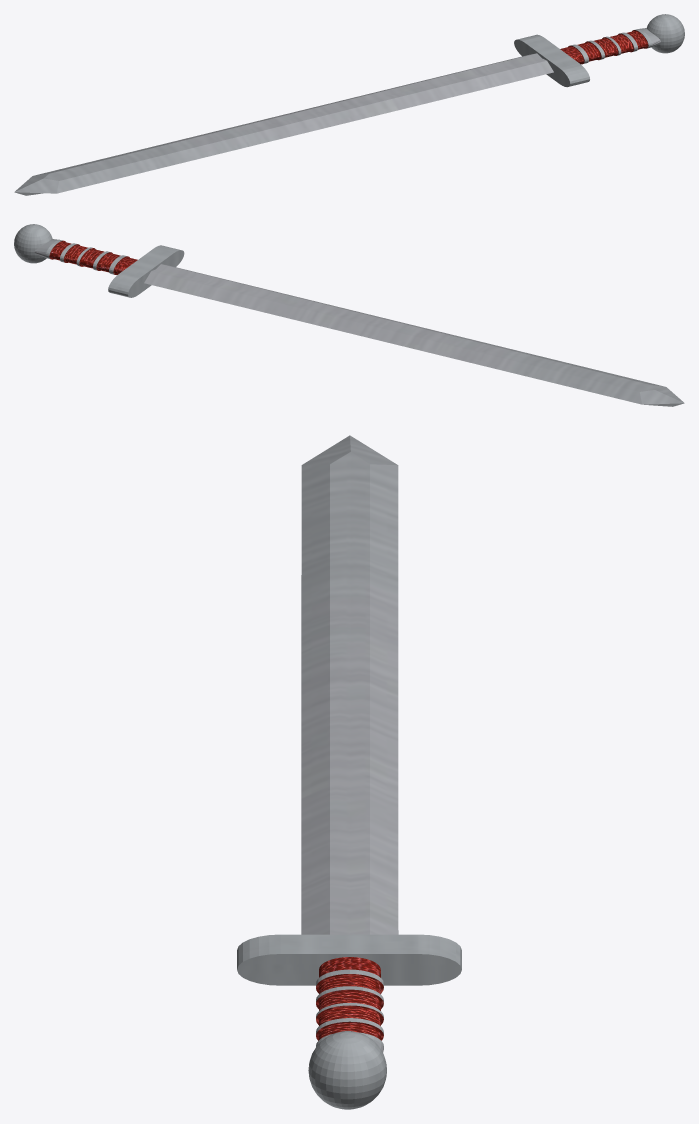
File: sword.obj
3 views of the same model, one above another, from view 1: azimuth 30°, elevation 25°; view 2: azimuth 150°, elevation 25°; view 3: azimuth 270°, elevation 25° (orthographic). The views are drawn at different scales.
Visible parts, largest first — view 1: Mec_ostri_Plane.003; view 2: Mec_ostri_Plane.003; view 3: Mec_ostri_Plane.003.
Boxes of the visible parts, <box> form: Mec_ostri_Plane.003: <box>14,14,684,195</box>; Mec_ostri_Plane.003: <box>14,224,684,406</box>; Mec_ostri_Plane.003: <box>237,435,461,1109</box>.
Bounding box in the file's own units: 1.11 × 0.0565 × 0.1614.
1 material, 1 textured.
